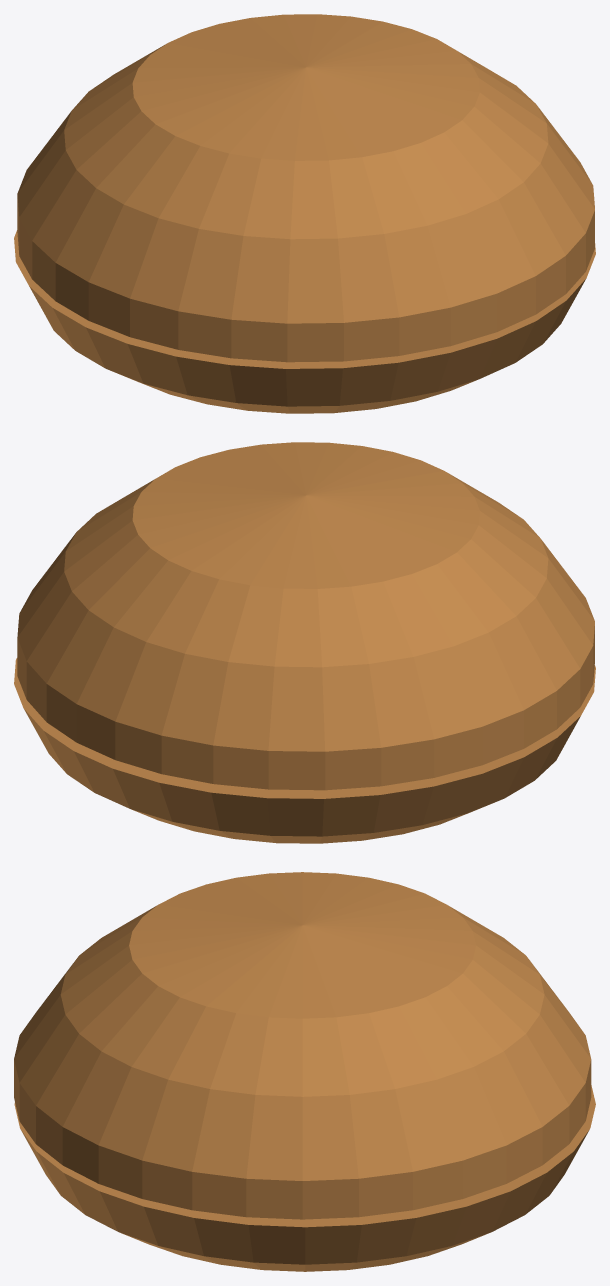
File: Buns.fbx
3 views of the same model, one above another, from view 1: azimuth 30°, elevation 25°; view 2: azimuth 150°, elevation 25°; view 3: azimuth 270°, elevation 25° (orthographic).
Visible parts, largest first — view 1: Circle, Circle.001; view 2: Circle, Circle.001; view 3: Circle, Circle.001.
Part boxes in pixels (x1,y1,x2,y2): Circle: [17, 14, 594, 362]; Circle.001: [14, 230, 595, 413]; Circle: [17, 442, 594, 790]; Circle.001: [14, 658, 595, 843]; Circle: [14, 872, 591, 1219]; Circle.001: [14, 1085, 595, 1271].
Bounding box in the file's own units: 148 × 72.25 × 148.
